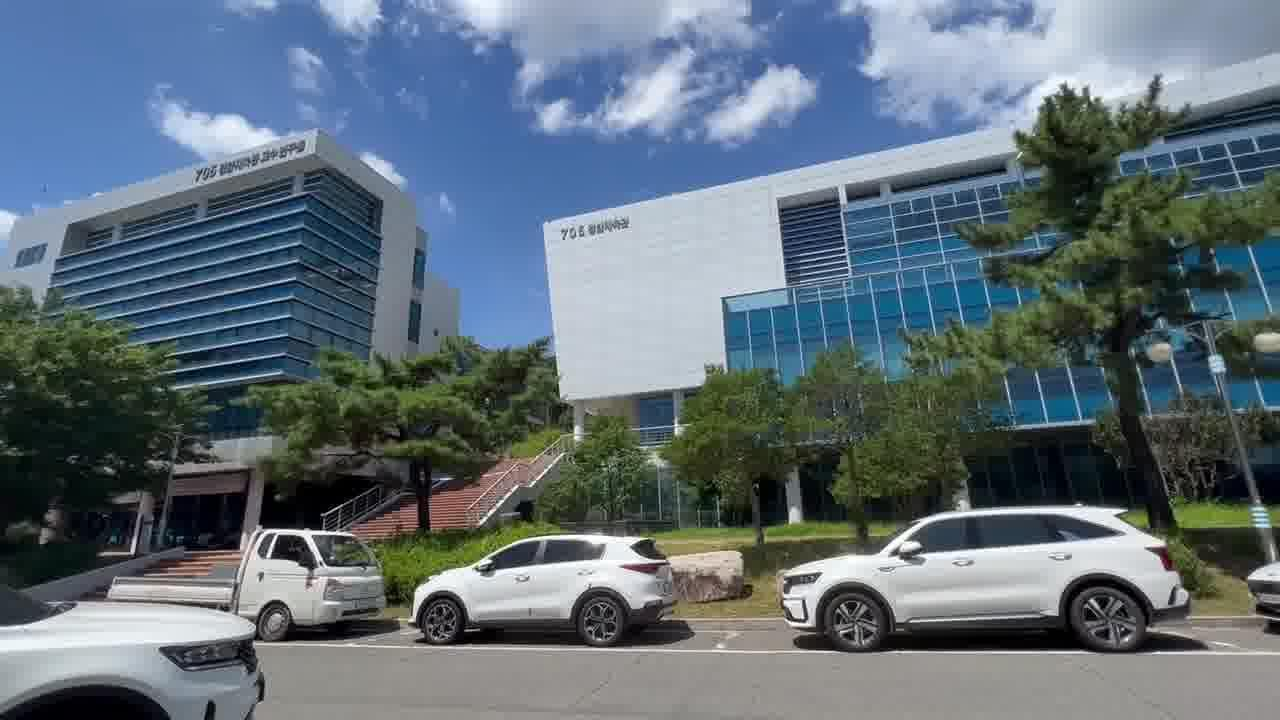building: (536, 142, 966, 409)
